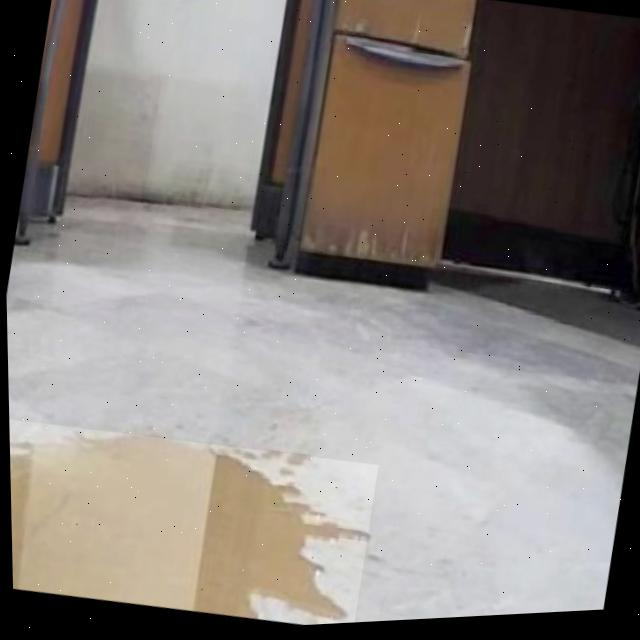spillage: (8, 438, 364, 623)
